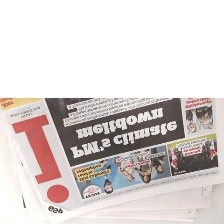news_paper: (1, 98, 224, 223)
